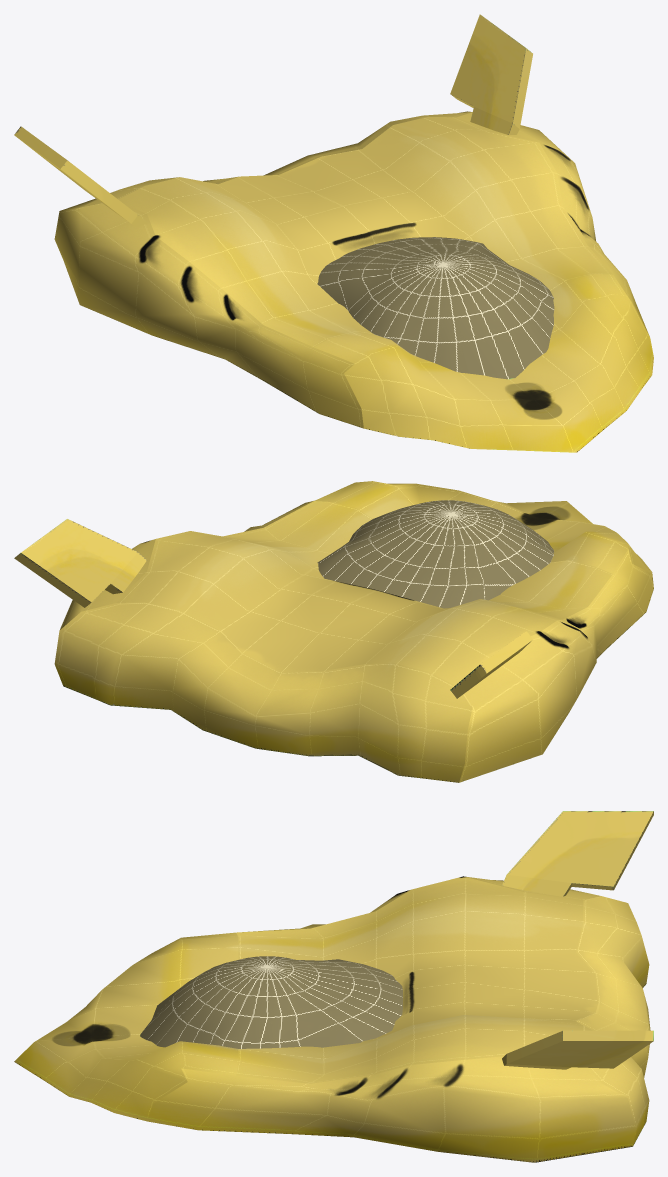
The model's file is GunShip_01.FBX.
3 views of the same model, one above another, from view 1: azimuth 30°, elevation 25°; view 2: azimuth 150°, elevation 25°; view 3: azimuth 270°, elevation 25° (orthographic). The views are drawn at different scales.
Visible parts, largest first — view 1: Box001; view 2: Box001; view 3: Box001.
Part boxes in pixels (x1,y1,x2,y2): Box001: (14, 14, 653, 452); Box001: (14, 481, 653, 782); Box001: (14, 811, 653, 1162).
Bounding box in the file's own units: 89.36 × 107 × 25.95.
